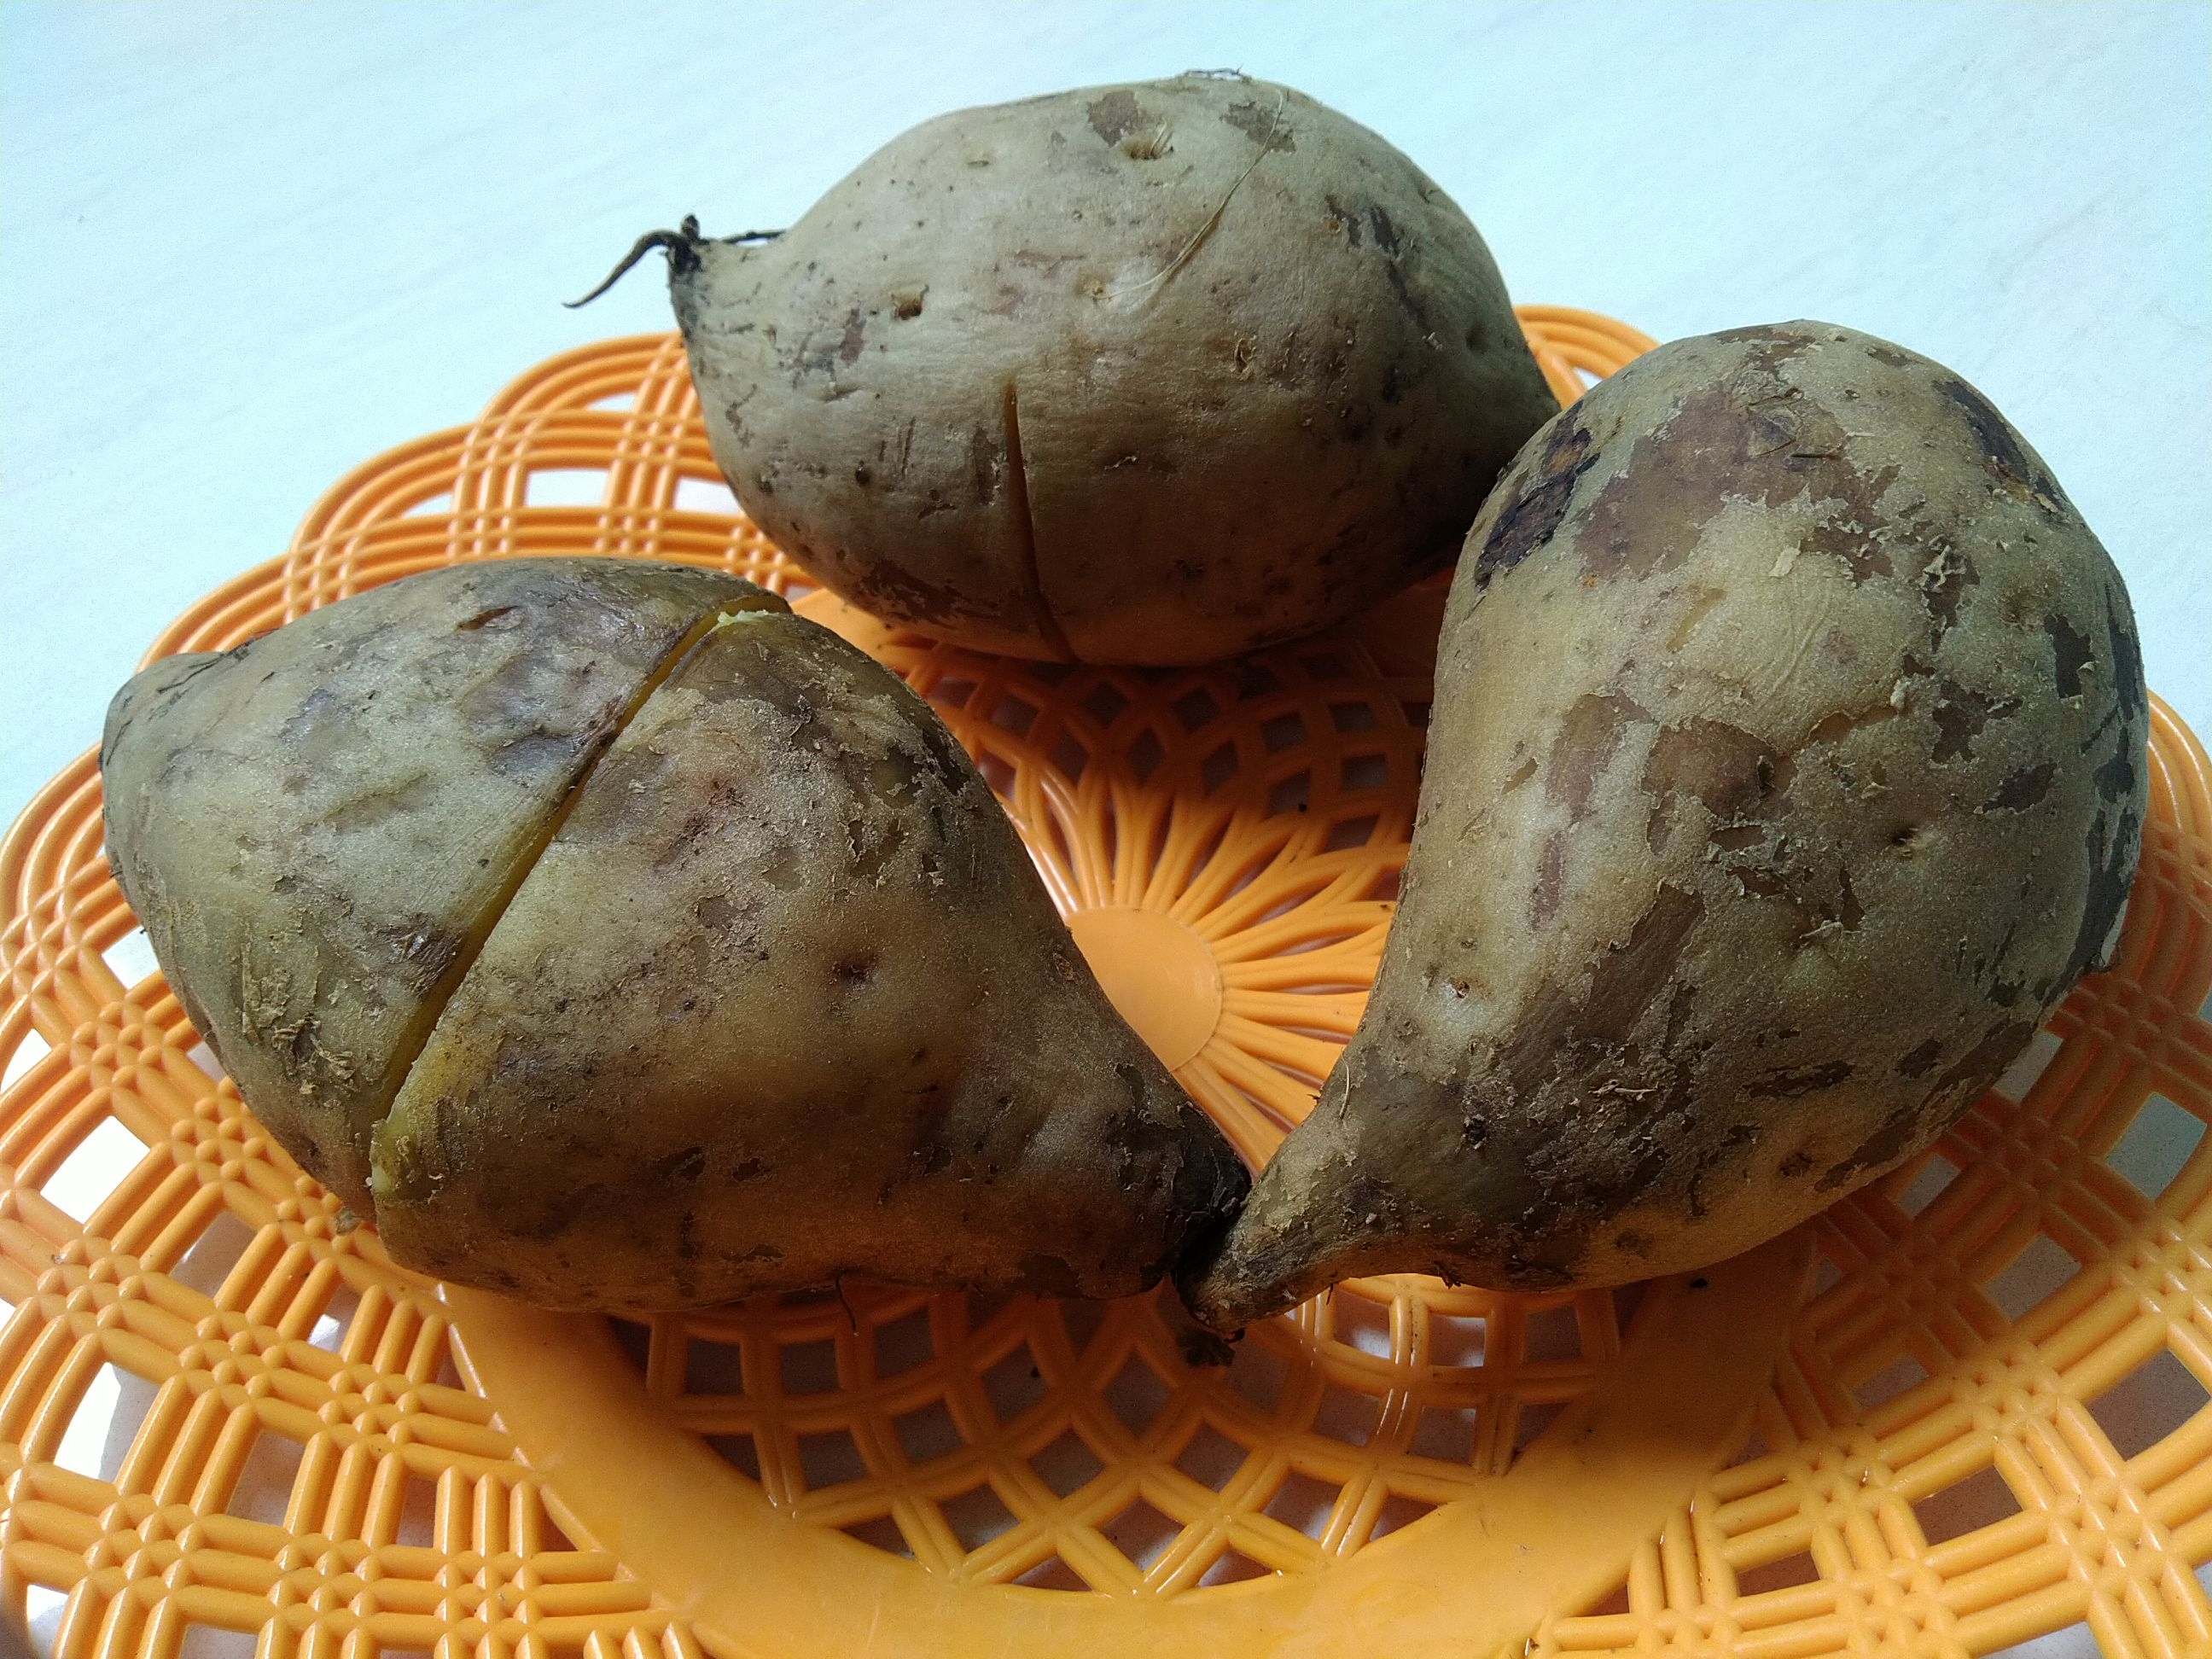ubi kuning: (77, 58, 2165, 1347), (1204, 268, 2163, 1351), (87, 538, 1278, 1344), (636, 49, 1552, 666)
